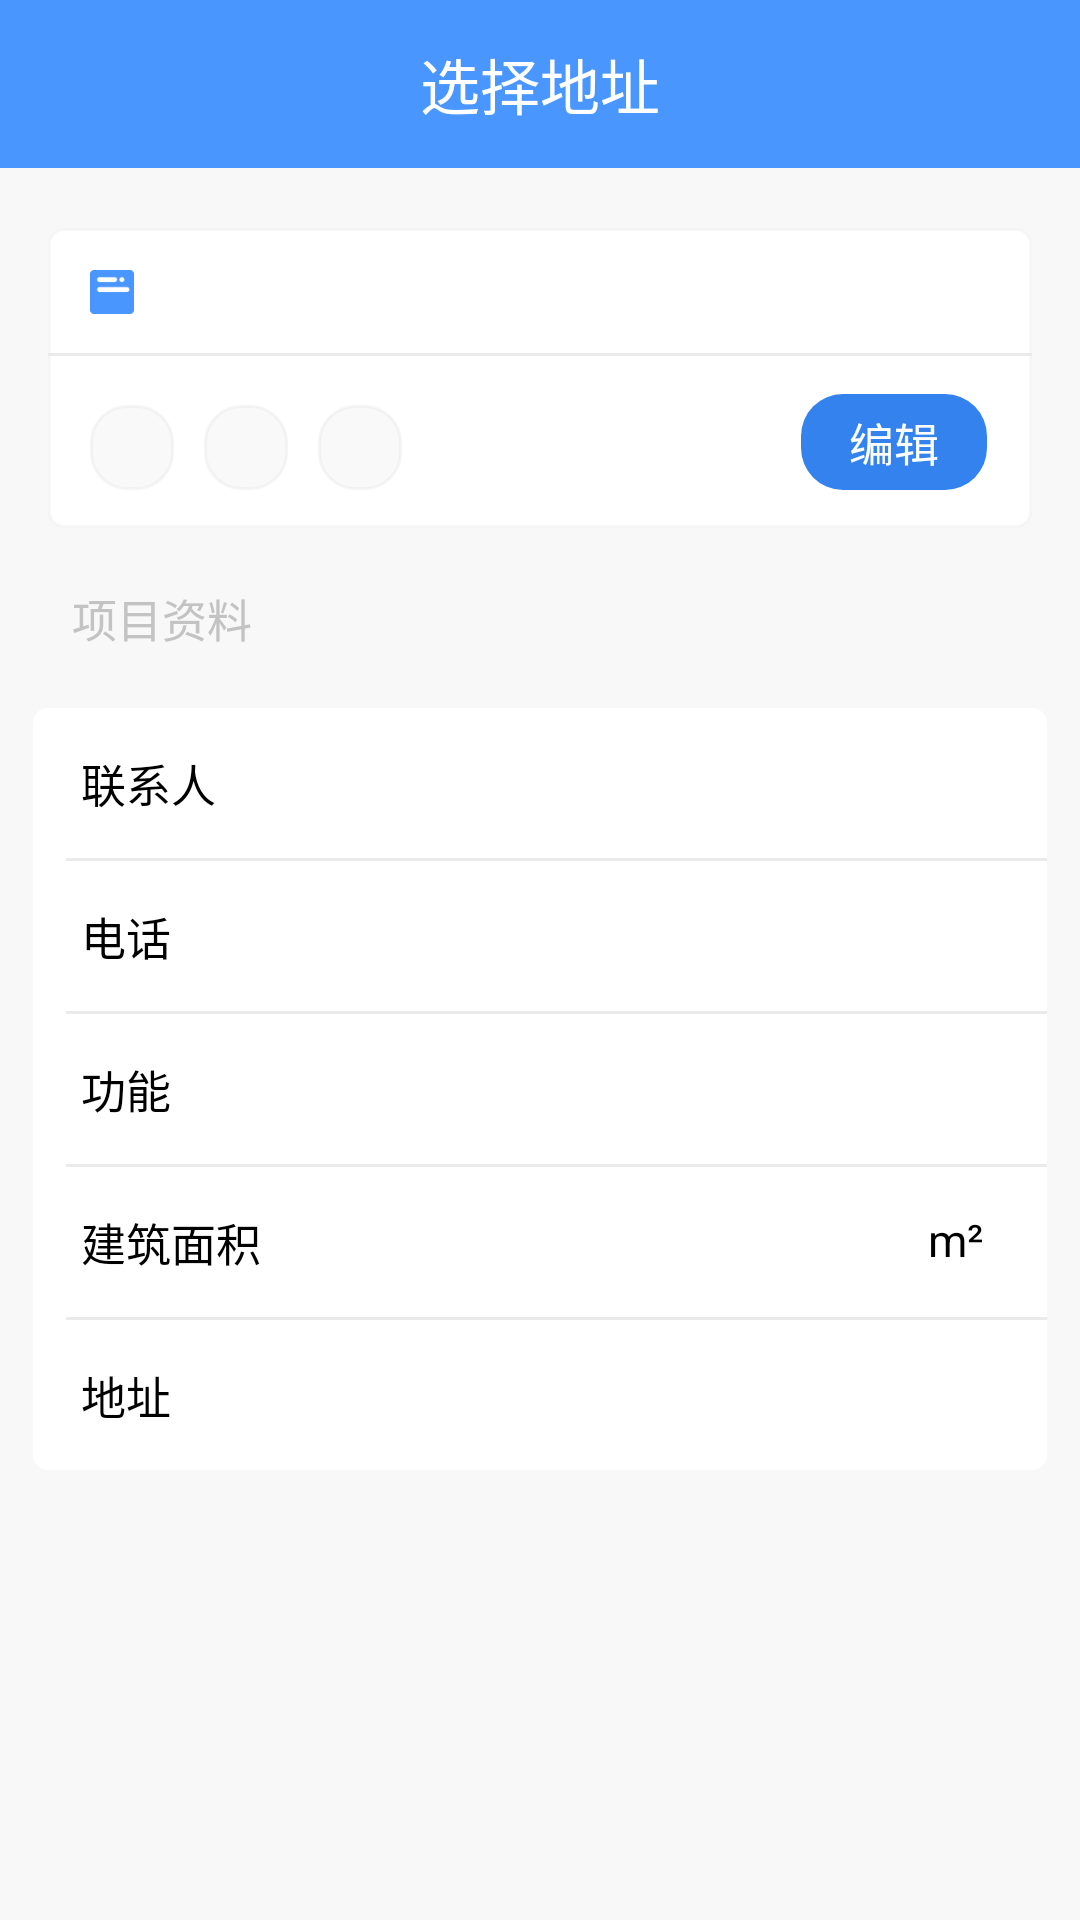

Screen size 1080*1920. Icon name, then its center in pixels as point (x, y):
project: point (112, 292)
